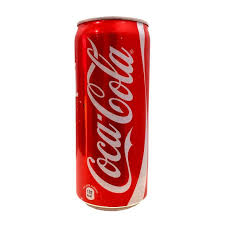coke: (83, 36, 138, 198)
